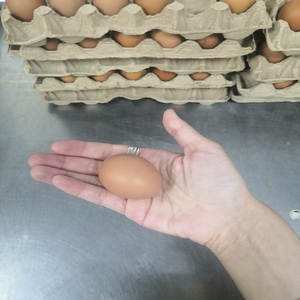brown egg: (98, 152, 164, 199)
